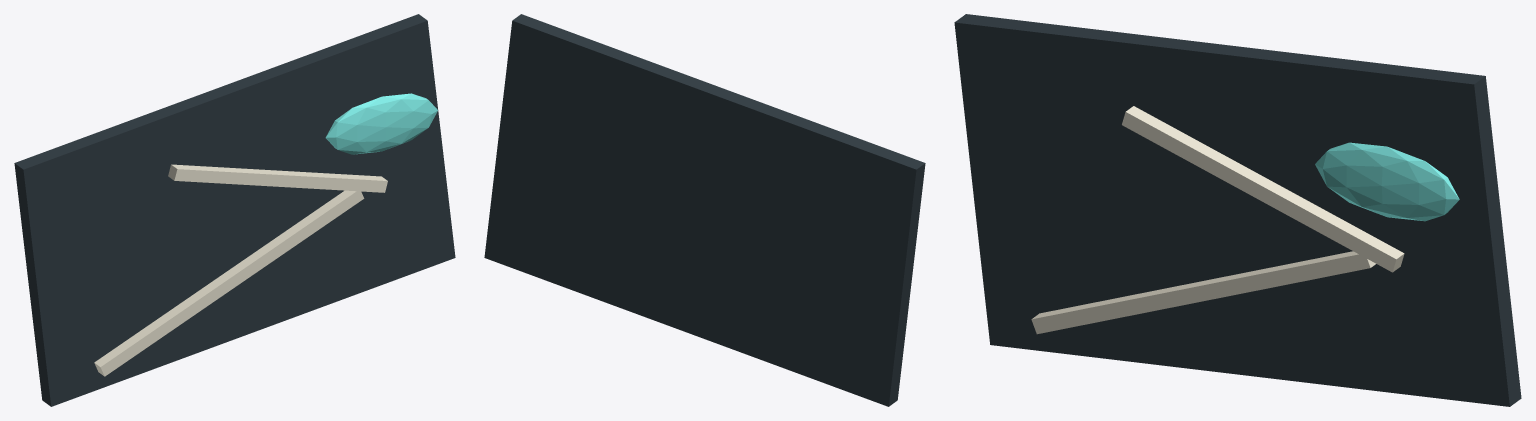
Rendered from 01_weathering_wear_overlay_1.glb.
The picture shows the model from 3 angles, left to right: view 1: azimuth 30°, elevation 25°; view 2: azimuth 150°, elevation 25°; view 3: azimuth 330°, elevation 25°; orthographic projection. The views are drawn at different scales.
Visible parts, largest first — view 1: wear_plate, scratch_a, rust_or_moss_spot, scratch_b; view 2: wear_plate; view 3: wear_plate, rust_or_moss_spot, scratch_b, scratch_a.
Part boxes in pixels (x1,y1,x2,y2): wear_plate: [14, 14, 455, 406]; scratch_a: [94, 190, 364, 376]; rust_or_moss_spot: [325, 93, 437, 154]; scratch_b: [168, 164, 387, 192]; wear_plate: [484, 14, 925, 406]; wear_plate: [954, 14, 1521, 406]; rust_or_moss_spot: [1315, 142, 1459, 221]; scratch_b: [1122, 106, 1404, 272]; scratch_a: [1031, 251, 1375, 334].
Size of the model in its own units: 1.38 by 0.8986 by 0.134.
